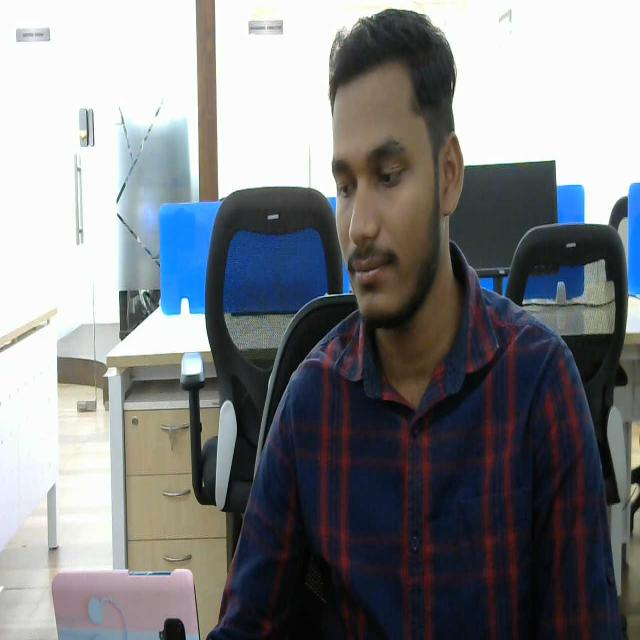phone: (47, 566, 200, 640)
